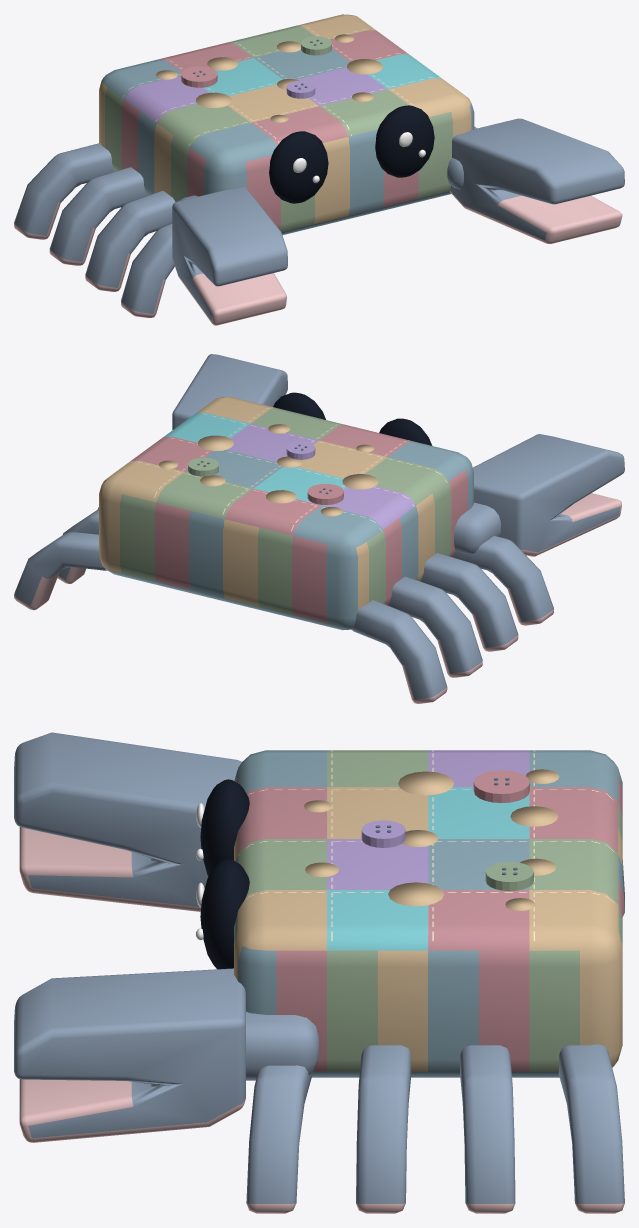
The model's file is PatchworkCrab.fbx.
The picture shows the model from 3 angles, top to bottom: view 1: azimuth 30°, elevation 25°; view 2: azimuth 150°, elevation 25°; view 3: azimuth 270°, elevation 25°; orthographic projection. The views are drawn at different scales.
Parts seen in each view (by area): view 1: PatchworkCrab_Body, PatchworkCrab, PatchworkCrab_Claw_R, PatchworkCrab_Claw_L, PatchworkCrab_Eye_R, PatchworkCrab_Eye_L, PatchworkCrab_Arm_R; view 2: PatchworkCrab_Body, PatchworkCrab, PatchworkCrab_Claw_L, PatchworkCrab_Claw_R, PatchworkCrab_Arm_L, PatchworkCrab_Eye_R, PatchworkCrab_Eye_L; view 3: PatchworkCrab_Body, PatchworkCrab, PatchworkCrab_Claw_R, PatchworkCrab_Claw_L, PatchworkCrab_Arm_R, PatchworkCrab_Eye_R, PatchworkCrab_Eye_L.
Boxes of the visible parts, bbox=[...] form: PatchworkCrab_Body: bbox=[99, 14, 474, 235]; PatchworkCrab: bbox=[14, 34, 476, 317]; PatchworkCrab_Claw_R: bbox=[450, 118, 624, 243]; PatchworkCrab_Claw_L: bbox=[172, 187, 287, 325]; PatchworkCrab_Eye_R: bbox=[375, 105, 434, 177]; PatchworkCrab_Eye_L: bbox=[269, 131, 328, 203]; PatchworkCrab_Arm_R: bbox=[447, 158, 463, 189]; PatchworkCrab_Body: bbox=[99, 396, 473, 630]; PatchworkCrab: bbox=[14, 424, 553, 703]; PatchworkCrab_Claw_L: bbox=[473, 434, 624, 556]; PatchworkCrab_Claw_R: bbox=[172, 354, 287, 429]; PatchworkCrab_Arm_L: bbox=[454, 502, 500, 553]; PatchworkCrab_Eye_R: bbox=[273, 392, 325, 419]; PatchworkCrab_Eye_L: bbox=[379, 418, 432, 445]; PatchworkCrab_Body: bbox=[234, 750, 622, 1077]; PatchworkCrab: bbox=[246, 769, 624, 1213]; PatchworkCrab_Claw_R: bbox=[14, 968, 245, 1142]; PatchworkCrab_Claw_L: bbox=[14, 732, 241, 911]; PatchworkCrab_Arm_R: bbox=[246, 1011, 318, 1080]; PatchworkCrab_Eye_R: bbox=[200, 859, 249, 969]; PatchworkCrab_Eye_L: bbox=[200, 779, 249, 876].
Size of the model in its own units: 374 by 134 by 305.
Materials: 2 (2 with a texture image).
